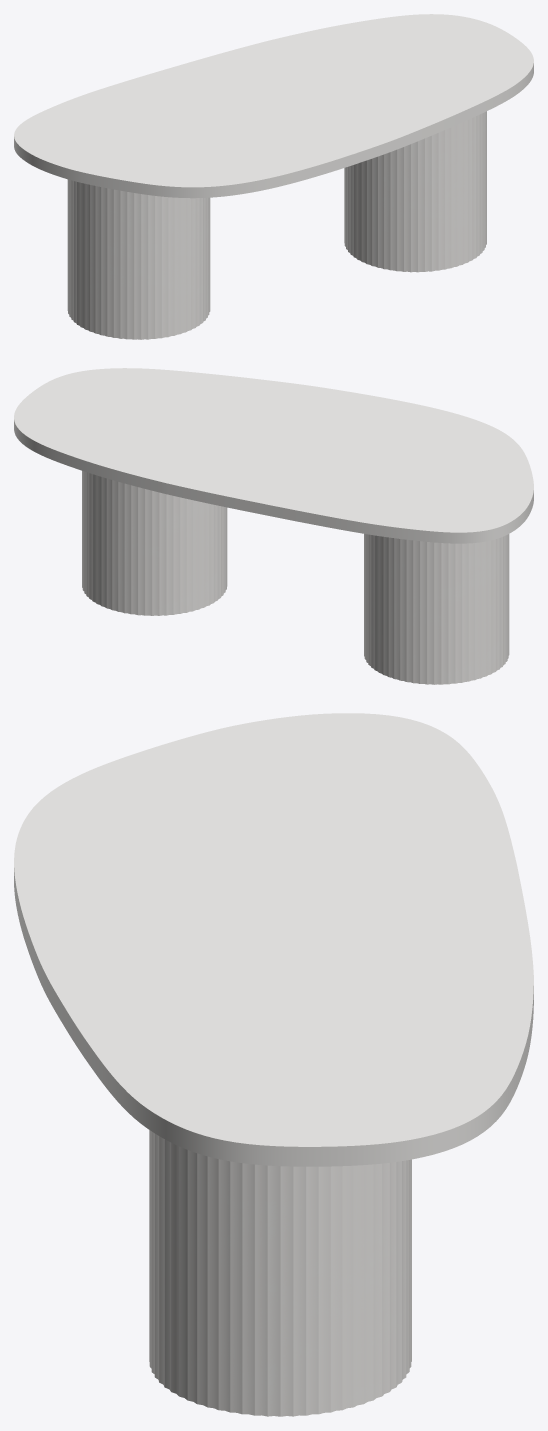
Rendered from purewhite_leaf2_standard_ripplesecond.glb.
The picture shows the model from 3 angles, top to bottom: view 1: azimuth 30°, elevation 25°; view 2: azimuth 150°, elevation 25°; view 3: azimuth 270°, elevation 25°; orthographic projection. The views are drawn at different scales.
Visible parts, largest first — view 1: standard_leaf2, ripplesecond; view 2: standard_leaf2, ripplesecond; view 3: standard_leaf2, ripplesecond.
Part boxes in pixels (x1,y1,x2,y2): standard_leaf2: [14, 14, 533, 198]; ripplesecond: [67, 111, 486, 339]; standard_leaf2: [14, 368, 533, 543]; ripplesecond: [82, 471, 509, 684]; standard_leaf2: [14, 713, 533, 1166]; ripplesecond: [149, 1130, 411, 1416].
Size of the model in its own units: 7.5 by 2.52 by 3.8.
Materials: 1 (1 with a texture image).
